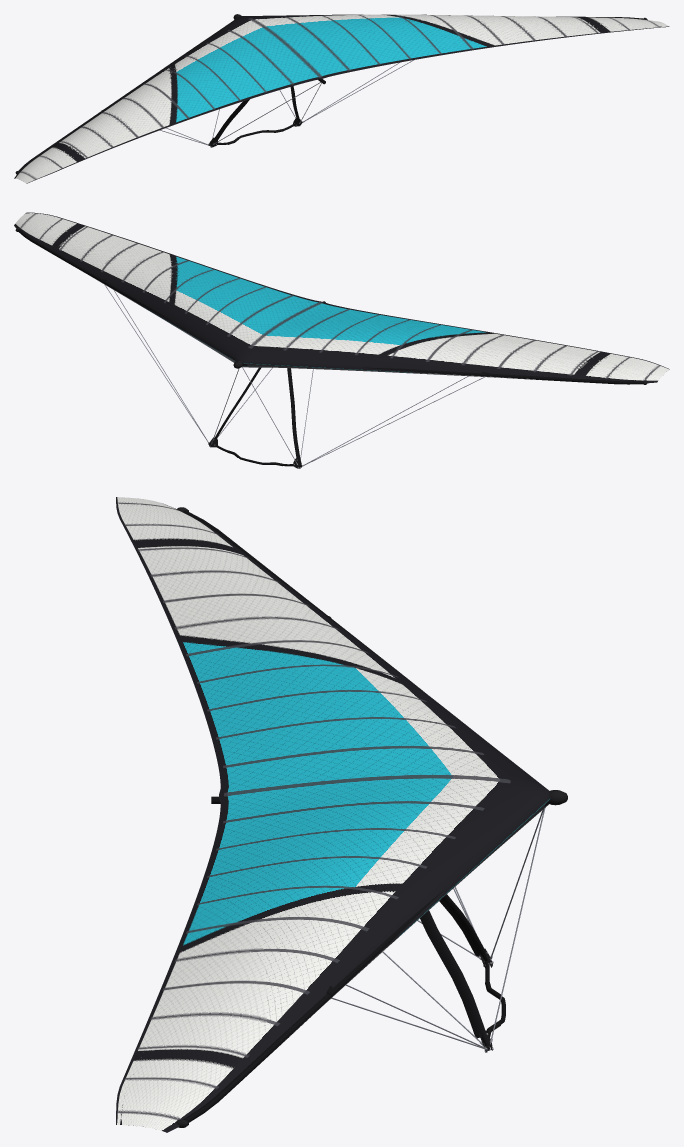
File: glider_ww_t3.glb
3 renders of one model, top to bottom at view 1: azimuth 30°, elevation 25°; view 2: azimuth 150°, elevation 25°; view 3: azimuth 270°, elevation 25°, orthographic. The views are drawn at different scales.
Parts seen in each view (by area): view 1: Sail, ControlFrame, Frame; view 2: Sail, ControlFrame, Frame; view 3: Sail, ControlFrame, Frame.
Boxes of the visible parts, x1,y1,x2,y2 form: Sail: [14, 14, 669, 183]; ControlFrame: [160, 60, 413, 147]; Frame: [15, 14, 647, 174]; Sail: [14, 212, 669, 383]; ControlFrame: [105, 285, 484, 468]; Frame: [15, 227, 647, 384]; Sail: [116, 497, 550, 1132]; ControlFrame: [331, 808, 545, 1052]; Frame: [176, 507, 567, 1127].
Bounding box in the file's own units: 10.06 × 1.79 × 3.06.
8 materials, 1 textured.
